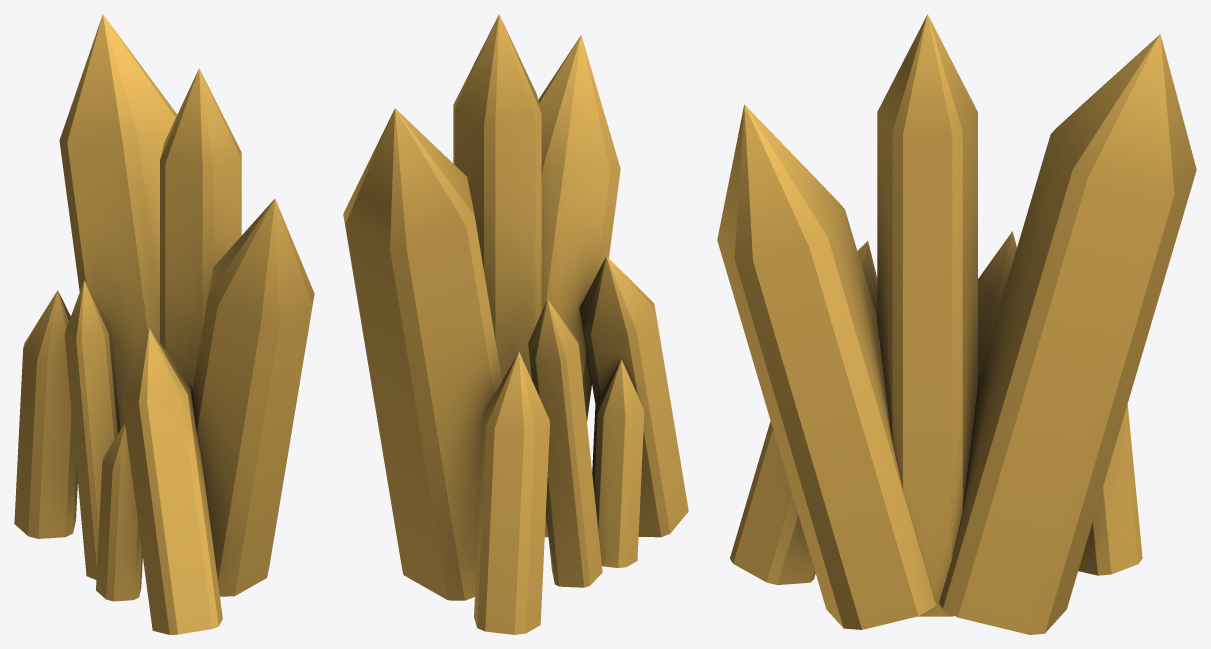
Rendered from vixoz.fbx.
The picture shows the model from 3 angles, left to right: view 1: azimuth 30°, elevation 25°; view 2: azimuth 150°, elevation 25°; view 3: azimuth 270°, elevation 25°; orthographic projection. The views are drawn at different scales.
Parts seen in each view (by area): view 1: Gengon003, Gengon001, Gengon004, Gengon002, Gengon006, Gengon005, Gengon007; view 2: Gengon001, Gengon002, Gengon003, Gengon006, Gengon004, Gengon005, Gengon007; view 3: Gengon001, Gengon003, Gengon002, Gengon004, Gengon006, Gengon005.
Boxes of the visible parts, left/top/right/bottom form: Gengon003: left=191, top=198, right=314, bottom=596; Gengon001: left=59, top=14, right=177, bottom=428; Gengon004: left=121, top=328, right=222, bottom=634; Gengon002: left=160, top=68, right=241, bottom=389; Gengon006: left=14, top=290, right=77, bottom=538; Gengon005: left=64, top=280, right=120, bottom=579; Gengon007: left=96, top=423, right=142, bottom=601; Gengon001: left=343, top=108, right=501, bottom=600; Gengon002: left=453, top=14, right=541, bottom=380; Gengon003: left=538, top=35, right=620, bottom=537; Gengon006: left=474, top=351, right=549, bottom=634; Gengon004: left=579, top=256, right=688, bottom=537; Gengon005: left=528, top=299, right=602, bottom=587; Gengon007: left=592, top=359, right=644, bottom=568; Gengon001: left=939, top=34, right=1196, bottom=634; Gengon003: left=717, top=104, right=936, bottom=629; Gengon002: left=877, top=14, right=977, bottom=616; Gengon004: left=730, top=241, right=877, bottom=584; Gengon006: left=1078, top=404, right=1142, bottom=575; Gengon005: left=978, top=231, right=1016, bottom=378.
Bounding box in the file's own units: 16.5 × 49.73 × 35.7.
